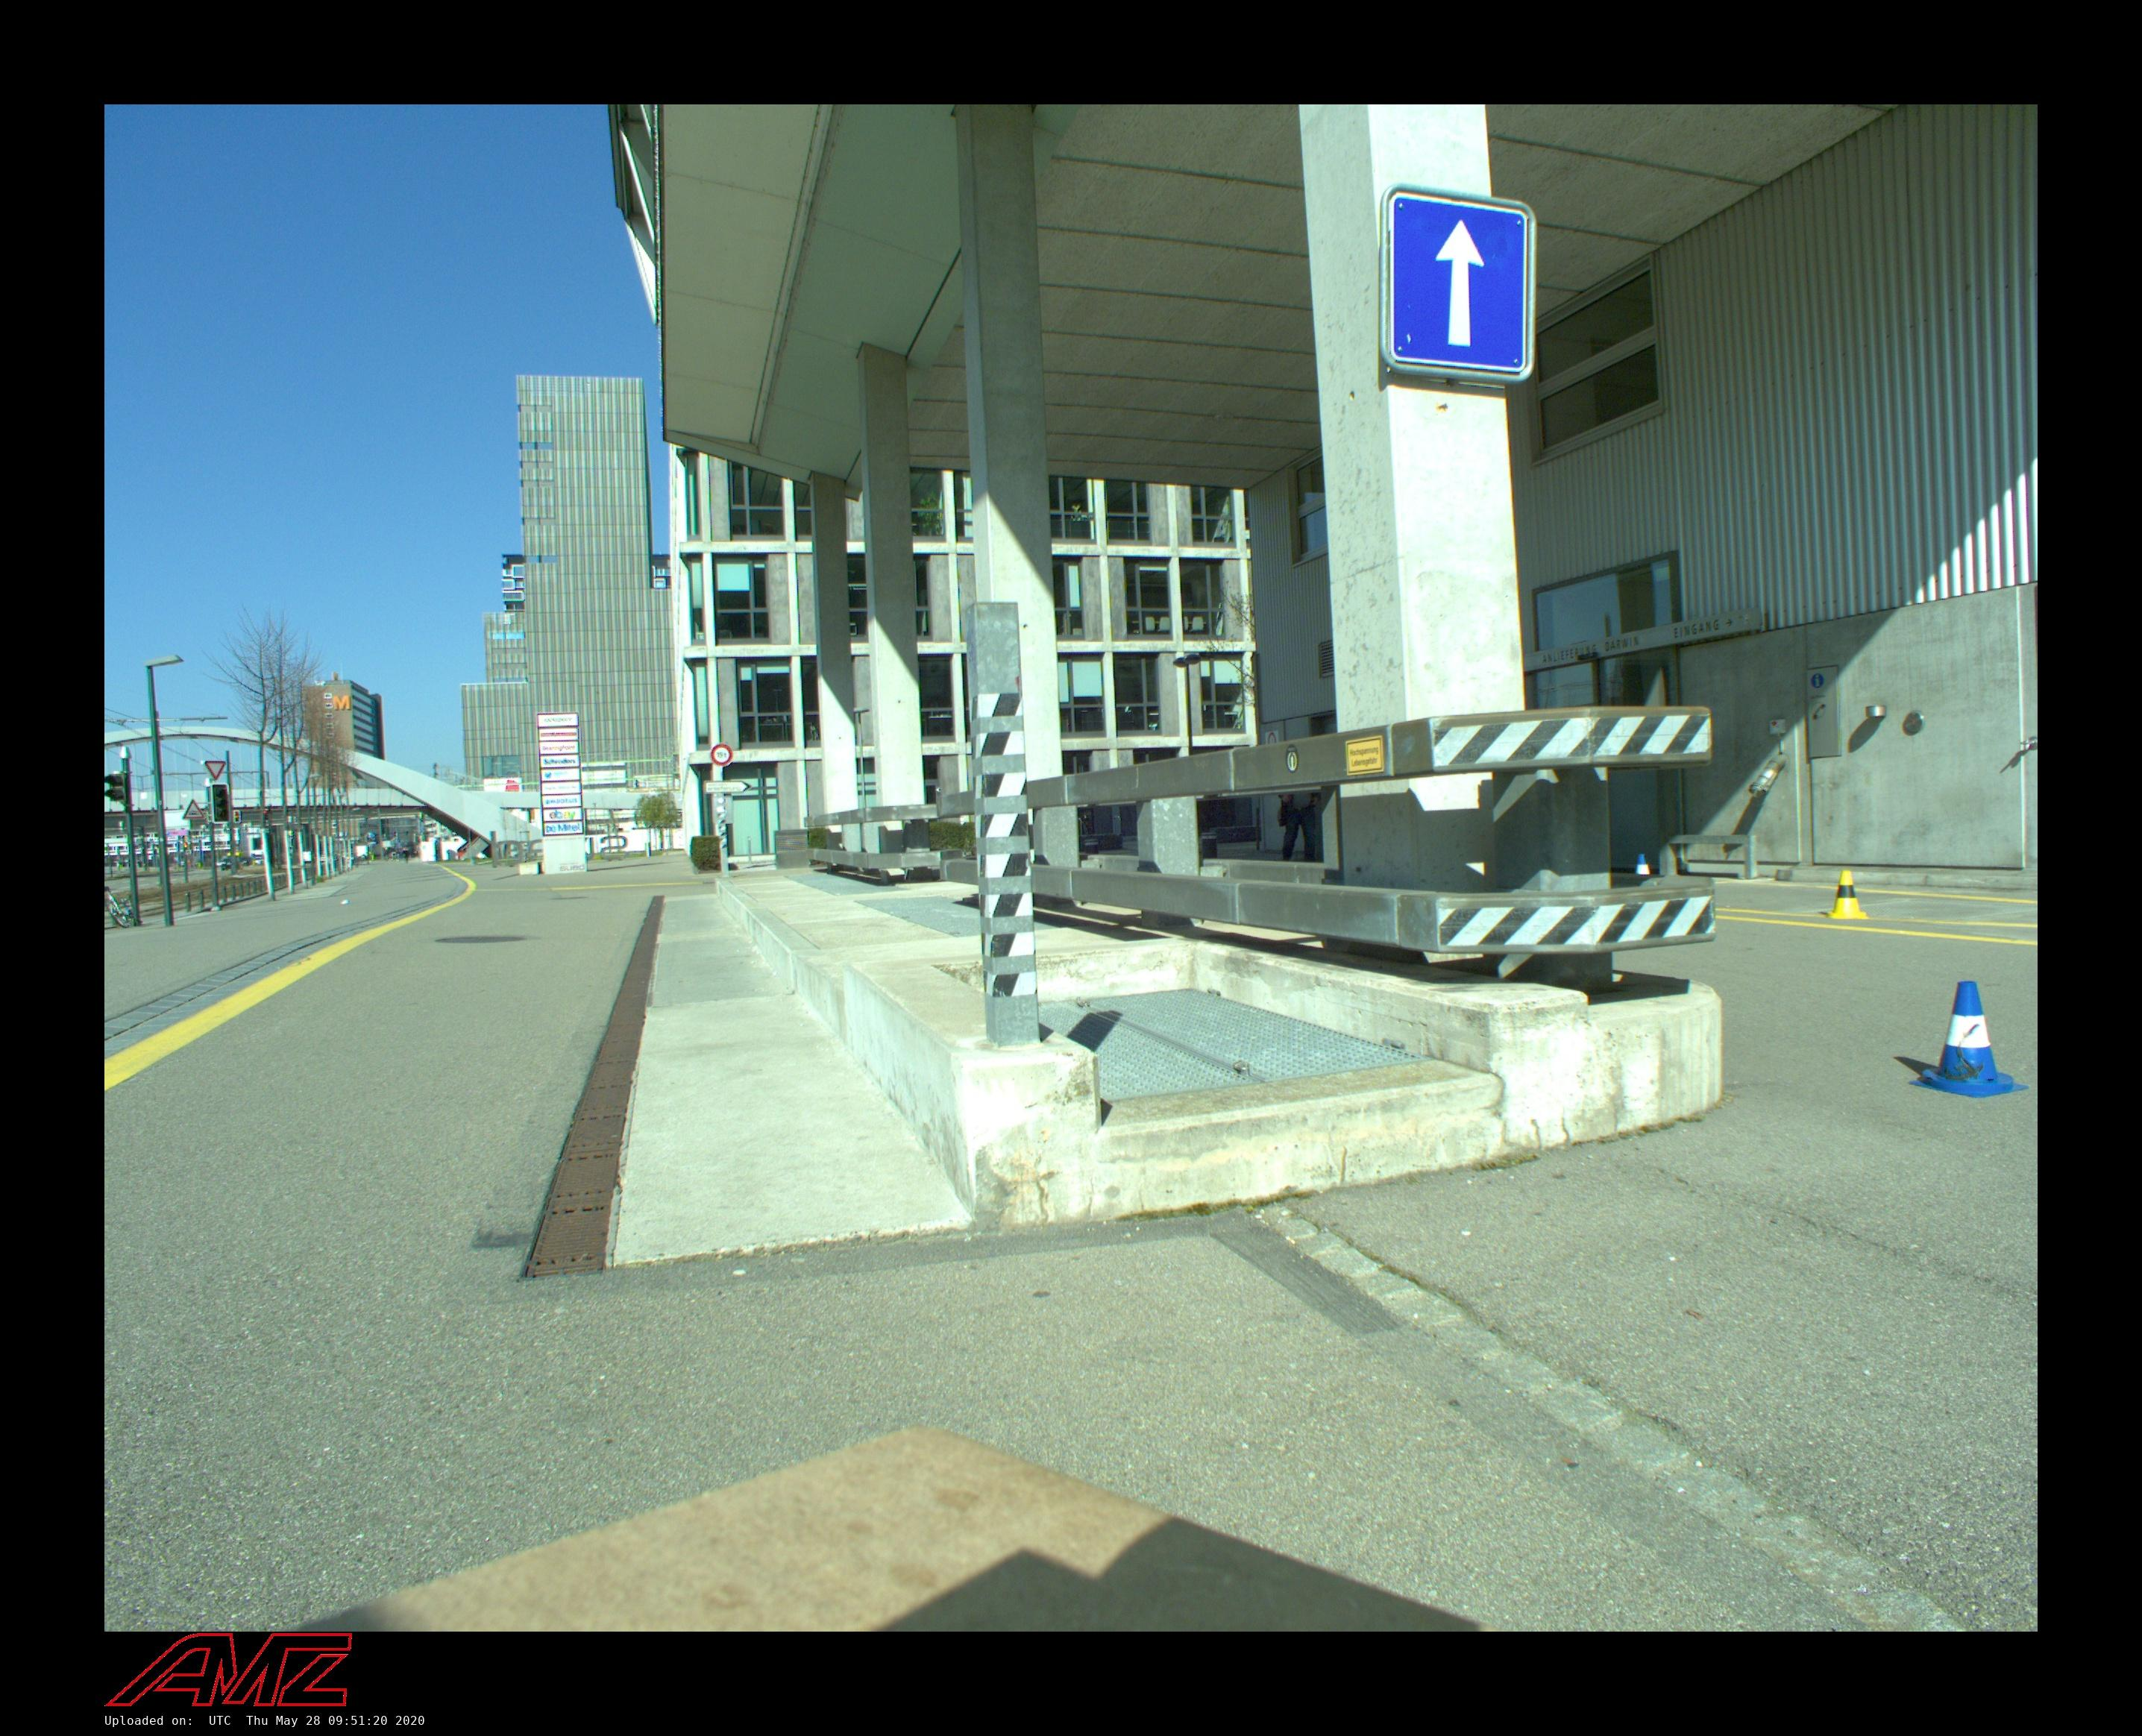blue_cone: (1908, 981, 2030, 1098)
yellow_cone: (1827, 870, 1869, 919)
